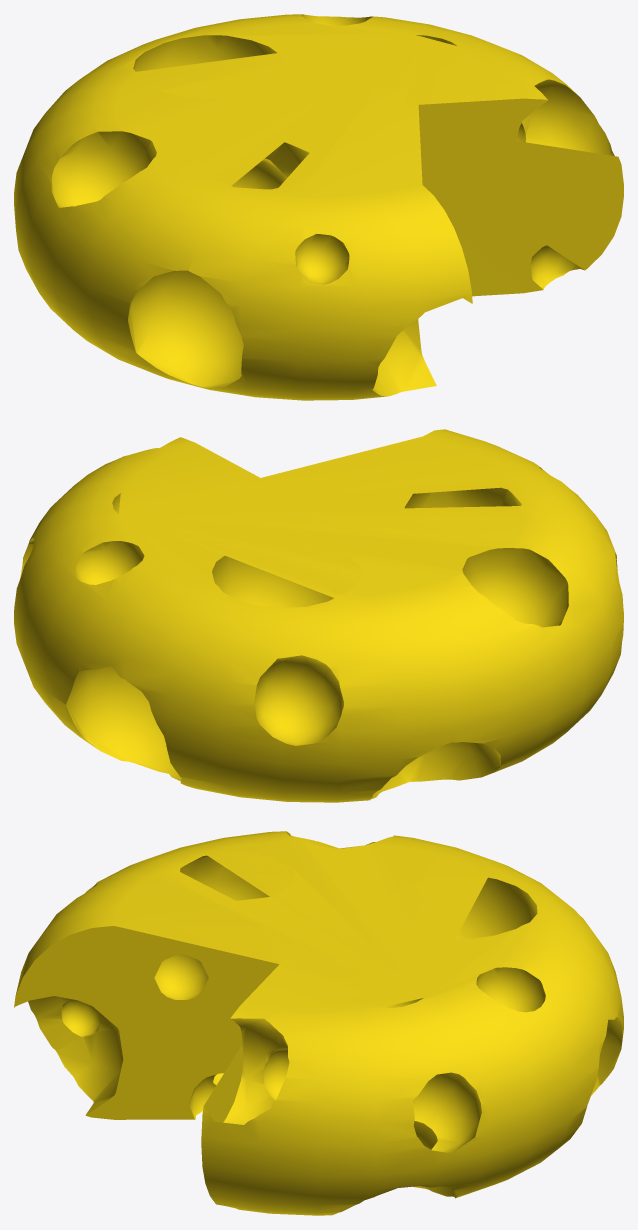
File: cheese_applied.fbx
3 views of the same model, one above another, from view 1: azimuth 30°, elevation 25°; view 2: azimuth 150°, elevation 25°; view 3: azimuth 270°, elevation 25° (orthographic).
Parts seen in each view (by area): view 1: cheese; view 2: cheese; view 3: cheese.
Part boxes in pixels (<box>): cheese: <box>14,14,623,400</box>; cheese: <box>14,429,623,802</box>; cheese: <box>14,831,623,1215</box>.
Size of the model in its own units: 101 by 35.26 by 100.
1 material, 1 textured.
